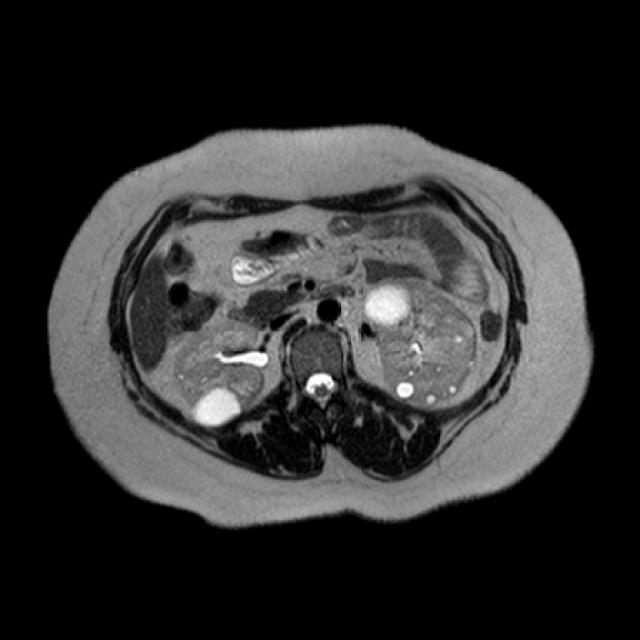sag: (169, 316, 262, 427)
sol: (356, 276, 477, 410)
